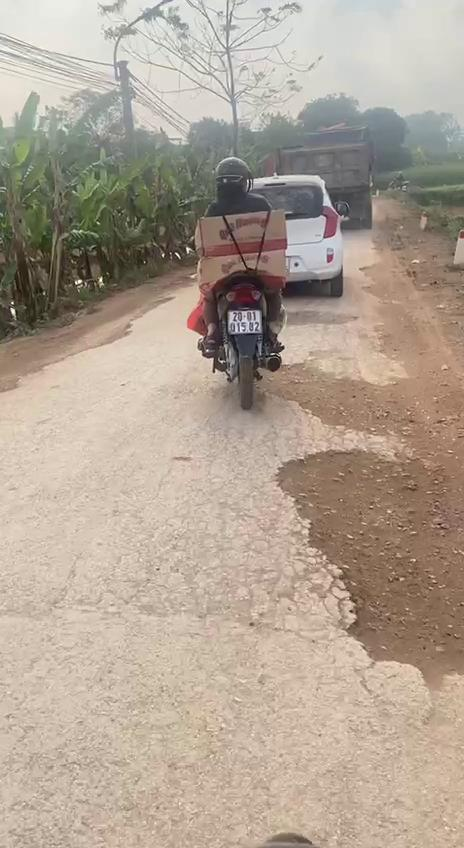pothole: (269, 445, 464, 695), (263, 362, 423, 449), (280, 307, 356, 331), (86, 322, 132, 354)
